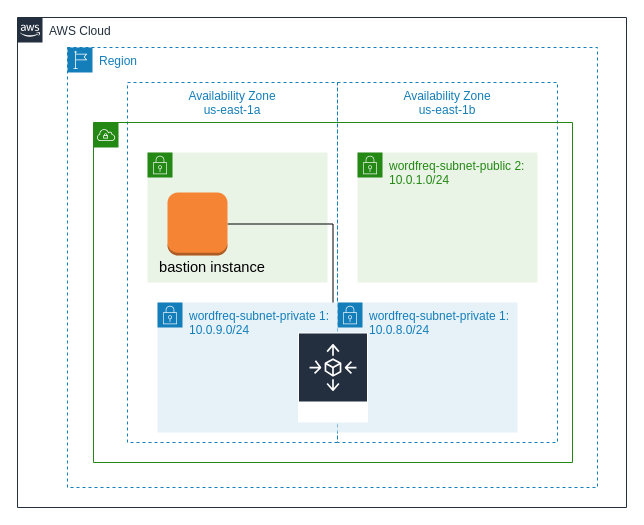
The diagram is 644 pixels wide and 525 high, and some of its shapes have lost their labels. Each missing label, with the box of its shape:
AWS Auto Scaling: (297, 332, 368, 422)
wordfreq-subnet-public 1: 10.0.0.0/24: (146, 152, 328, 282)
wordfreq-vpc: 10.0.0.0/20: (92, 122, 572, 462)
